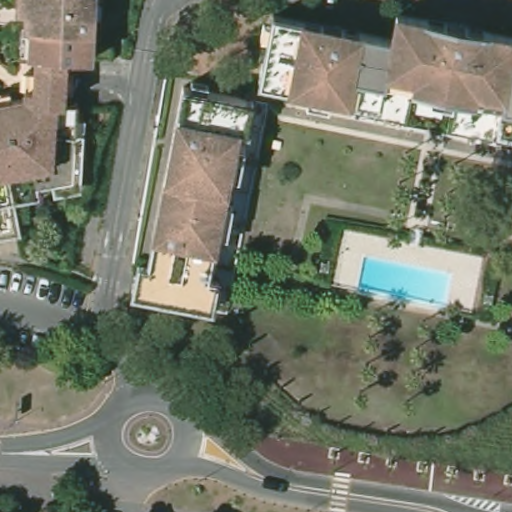pool: (356, 252, 454, 308)
